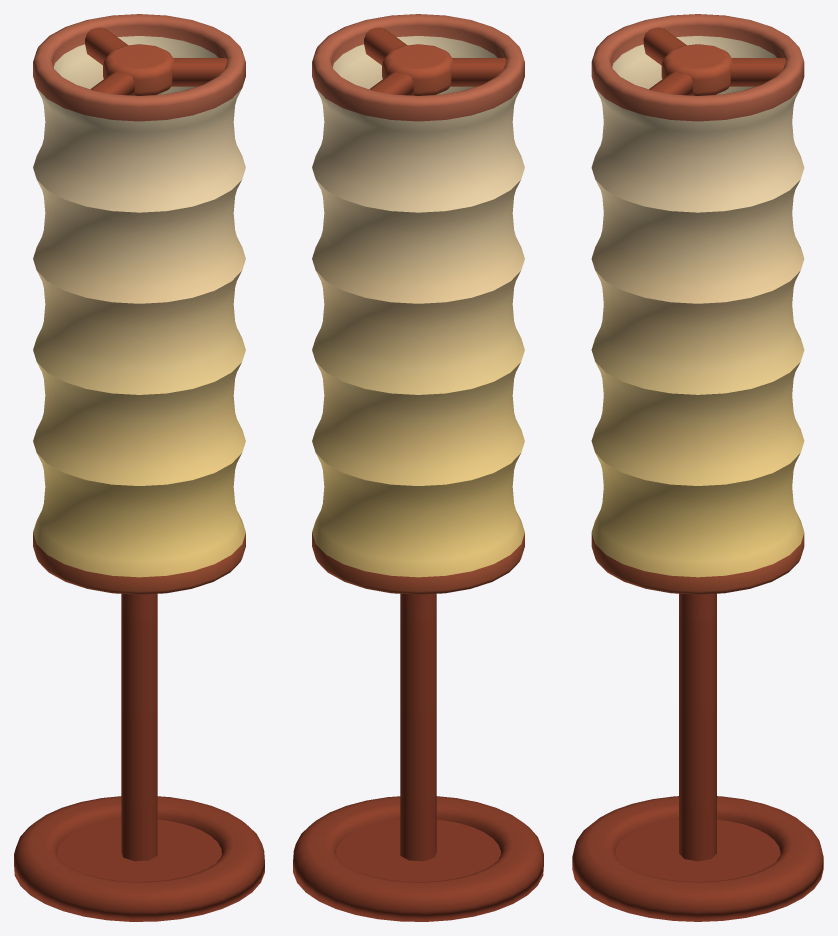
The model's file is Light_08.glb.
The picture shows the model from 3 angles, left to right: view 1: azimuth 30°, elevation 25°; view 2: azimuth 150°, elevation 25°; view 3: azimuth 270°, elevation 25°; orthographic projection.
Parts seen in each view (by area): view 1: Light_08; view 2: Light_08; view 3: Light_08.
Boxes of the visible parts, bbox=[...] form: Light_08: bbox=[14, 14, 264, 921]; Light_08: bbox=[293, 14, 543, 921]; Light_08: bbox=[572, 14, 823, 921].
Size of the model in its own units: 0.4 by 1.43 by 0.4.
Materials: 1 (1 with a texture image).
